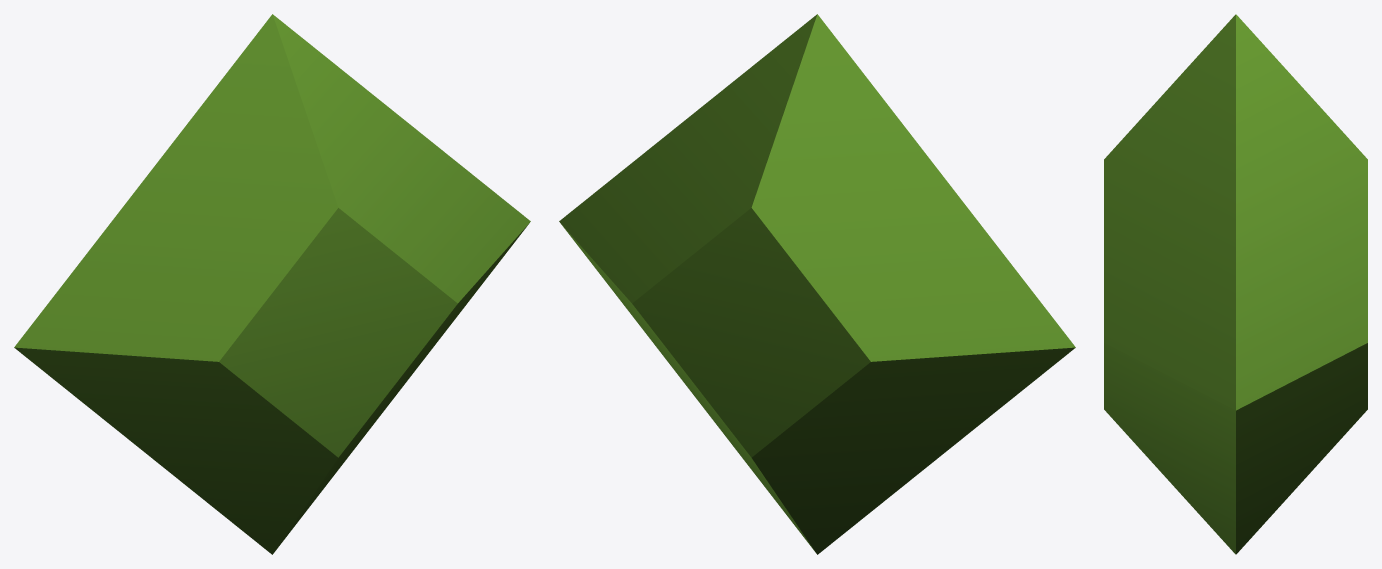
The model's file is Gem1.fbx.
3 views of the same model, side by side, from view 1: azimuth 30°, elevation 25°; view 2: azimuth 150°, elevation 25°; view 3: azimuth 270°, elevation 25° (orthographic).
Visible parts, largest first — view 1: Gem1; view 2: Gem1; view 3: Gem1.
Boxes of the visible parts, x1,y1,x2,y2 form: Gem1: [14, 14, 530, 554]; Gem1: [559, 14, 1075, 554]; Gem1: [1104, 14, 1367, 554].
Bounding box in the file's own units: 5.66 × 5.66 × 2.5.
